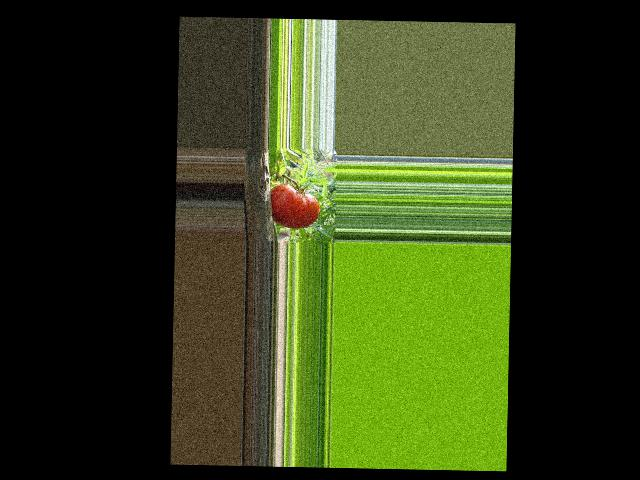tomato: (269, 183, 320, 228)
